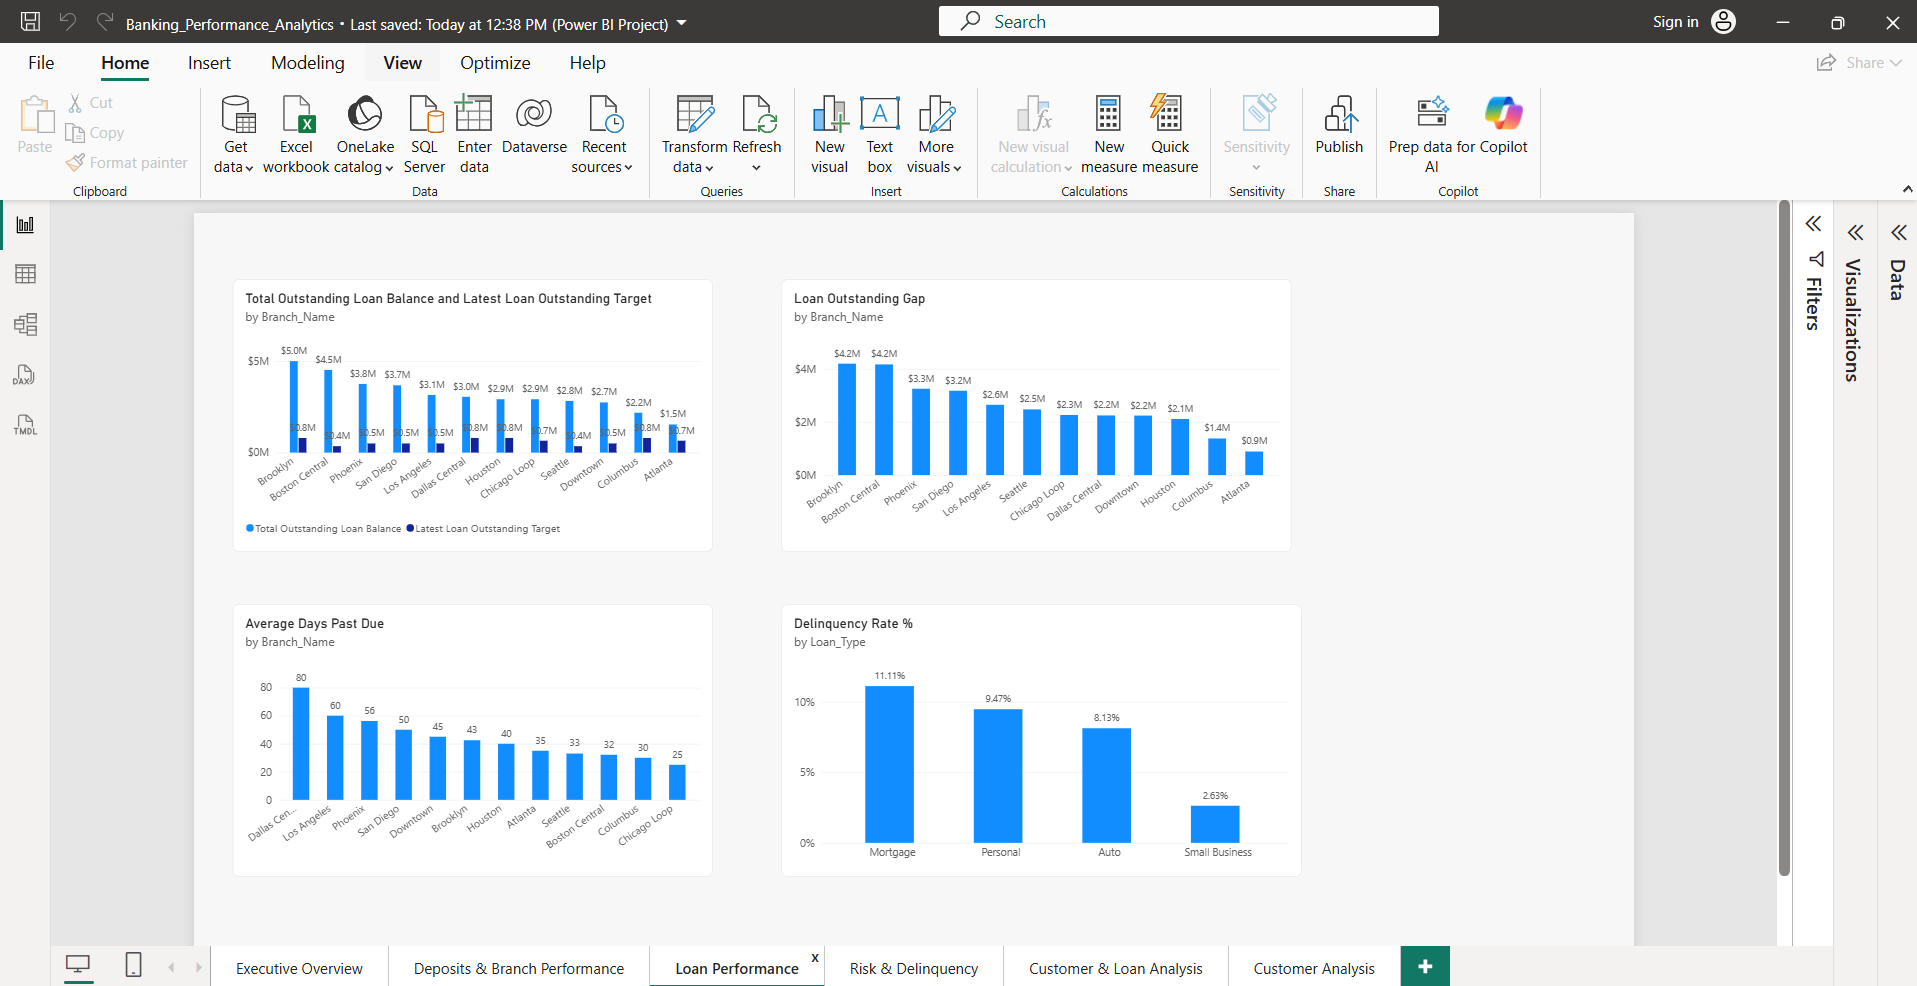

Layout of this report page (visuals, bound fields, positions):
{"tool":"powerbi","page":{"name":"Loan Performance","canvas":[1920,1080],"ordinal":2},"visuals":[{"type":"clusteredColumnChart","fields":{"Category":["Branches.Branch_Name"],"Y":["Accounts.Total Outstanding Loan Balance","Accounts.Latest Loan Outstanding Target"]},"box":[51.7,88.3,640,363.3],"z":0},{"type":"clusteredColumnChart","fields":{"Category":["Branches.Branch_Name"],"Y":["Accounts.Loan Outstanding Gap"]},"box":[783.3,88.3,680,363.3],"z":1},{"type":"clusteredColumnChart","fields":{"Category":["Branches.Branch_Name"],"Y":["Accounts.Average Days Past Due"]},"box":[51.7,521.7,640,363],"z":2},{"type":"clusteredColumnChart","fields":{"Category":["Loans.Loan_Type"],"Y":["Accounts.Delinquency Rate %"]},"box":[783.3,521.7,693.3,363.3],"z":3}]}

Visuals, with their boxes on the page's 1920x1080 design canvas (x1, y1, x2, y2). These are canvas units, not pixel positions in the 1917x986 screenshot, which may show the page scaled, cropped or inside an application window:
clusteredColumnChart - Branches.Branch_Name x Accounts.Total Outstanding Loan Balance: bbox(52, 88, 692, 452)
clusteredColumnChart - Branches.Branch_Name x Accounts.Loan Outstanding Gap: bbox(783, 88, 1463, 452)
clusteredColumnChart - Branches.Branch_Name x Accounts.Average Days Past Due: bbox(52, 522, 692, 885)
clusteredColumnChart - Loans.Loan_Type x Accounts.Delinquency Rate %: bbox(783, 522, 1477, 885)
